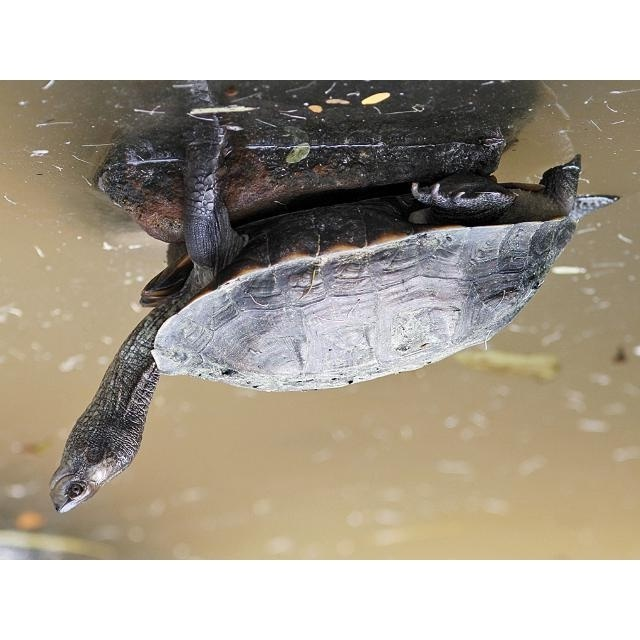turtle: (49, 121, 623, 516)
